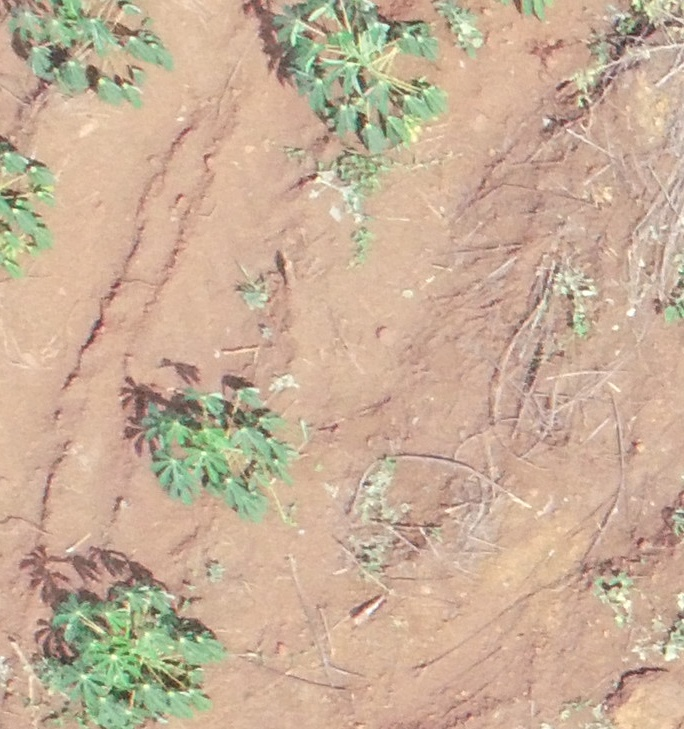stand: (251, 2, 437, 146), (130, 376, 309, 524), (42, 579, 213, 728)
